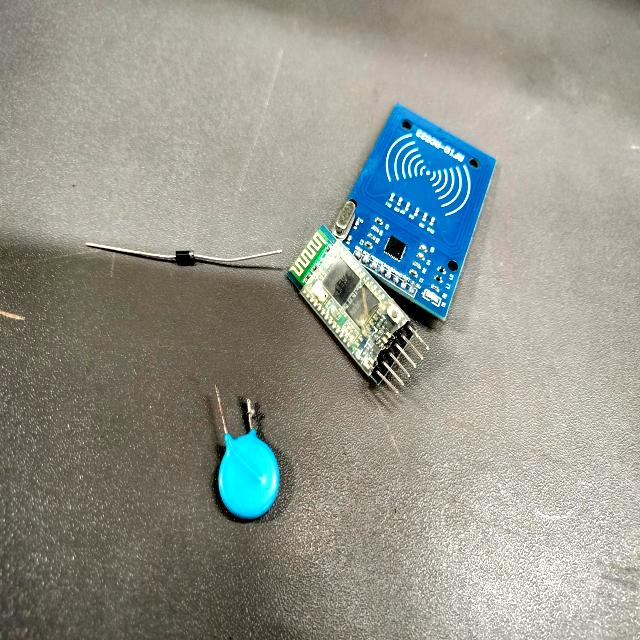capacitor: (219, 434, 279, 518)
